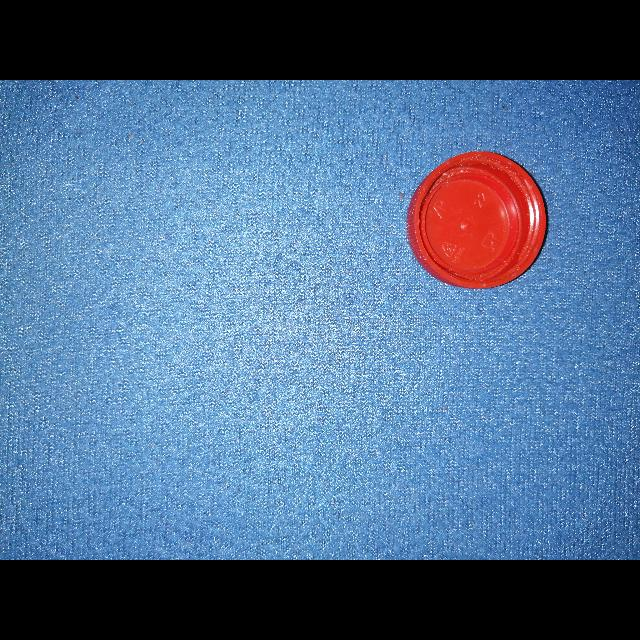plastic_bottle_cap: (408, 150, 548, 288)
